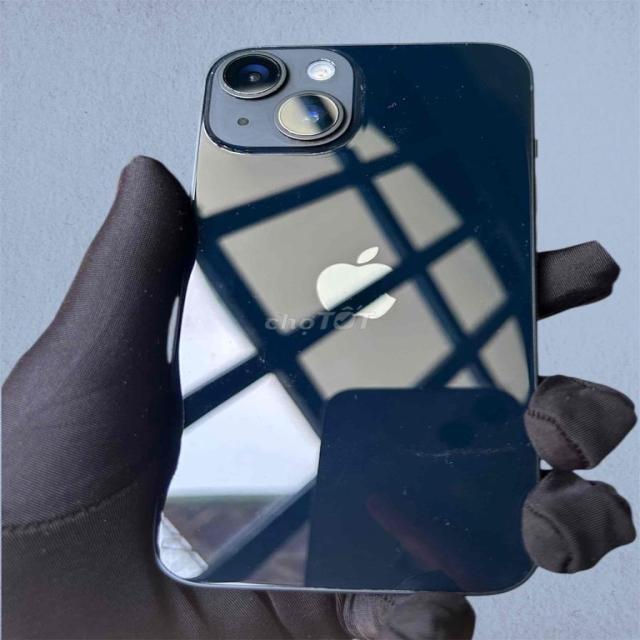gen_14: (142, 34, 560, 612)
